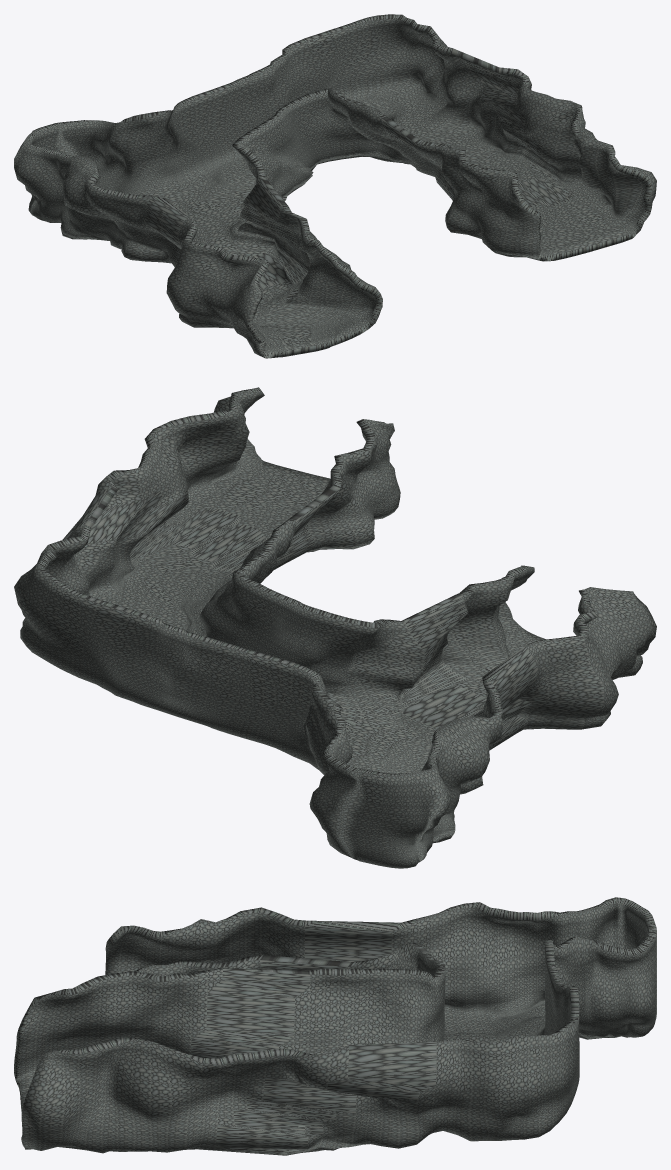
File: cave.fbx
3 renders of one model, top to bottom at view 1: azimuth 30°, elevation 25°; view 2: azimuth 150°, elevation 25°; view 3: azimuth 270°, elevation 25°, orthographic. The views are drawn at different scales.
Parts seen in each view (by area): view 1: Cube; view 2: Cube; view 3: Cube.
Boxes of the visible parts, x1,y1,x2,y2 form: Cube: [14, 14, 656, 358]; Cube: [14, 387, 656, 868]; Cube: [14, 897, 656, 1155].
Bounding box in the file's own units: 4469 × 1520 × 4696.
